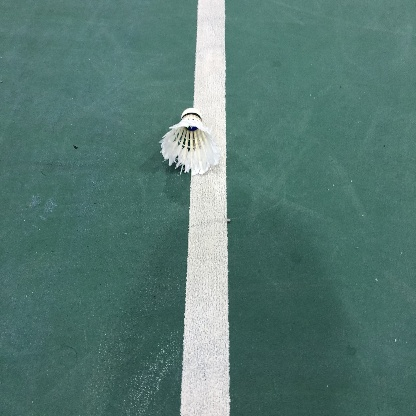ball_single: (158, 107, 220, 175)
